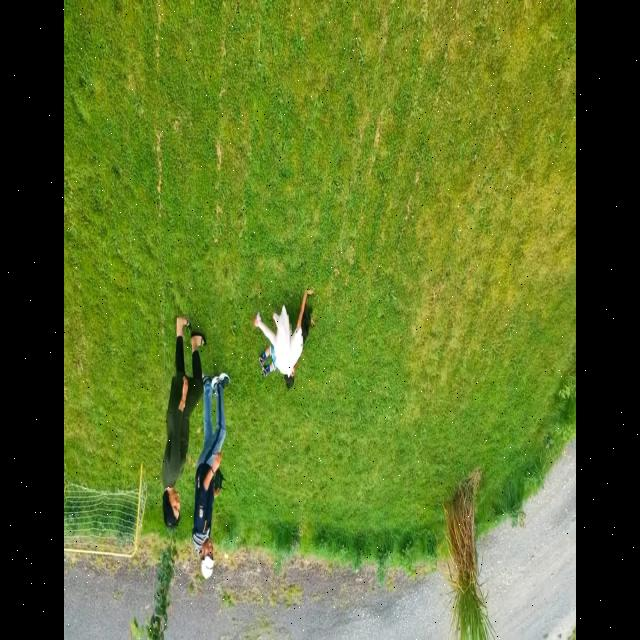humans: (159, 303, 207, 536), (193, 367, 240, 582), (256, 290, 316, 379)
